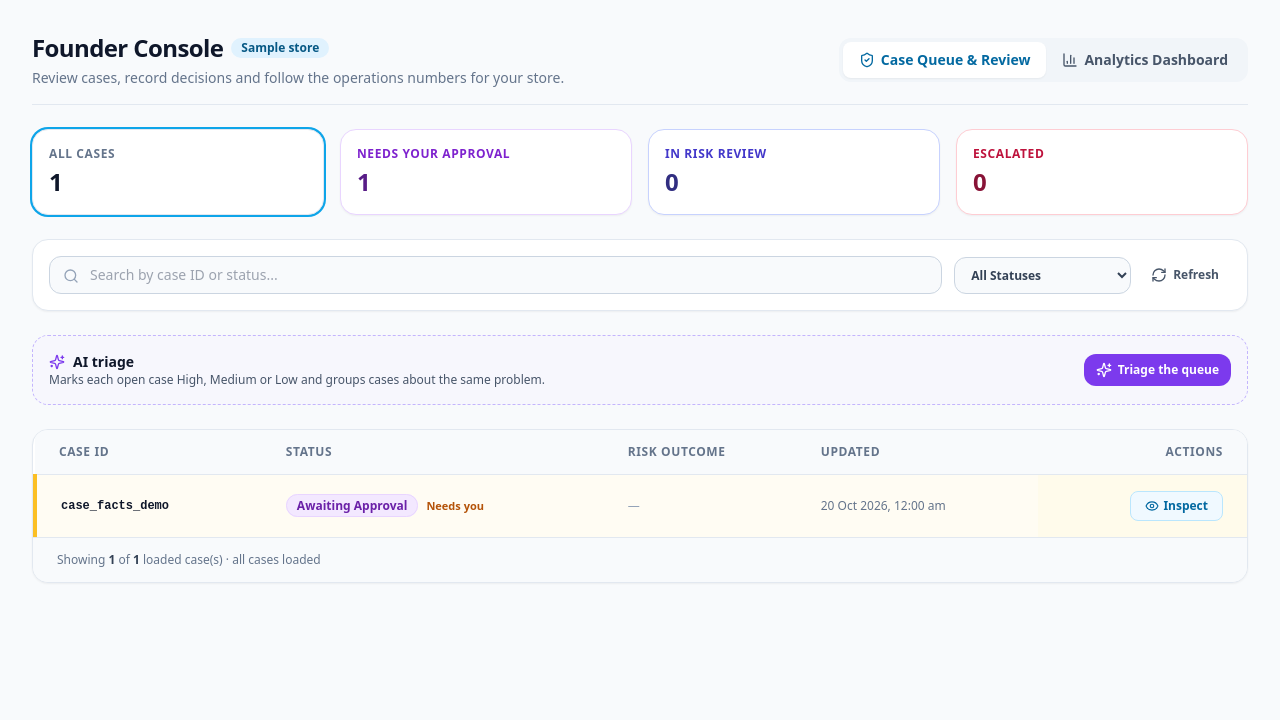
Test: FounderConsole advisory facts card (Issue #95) › marks the facts as mock data in Mock Mode
Click the button "Inspect" at coordinates (1177, 506), box [1130,491,1223,521]
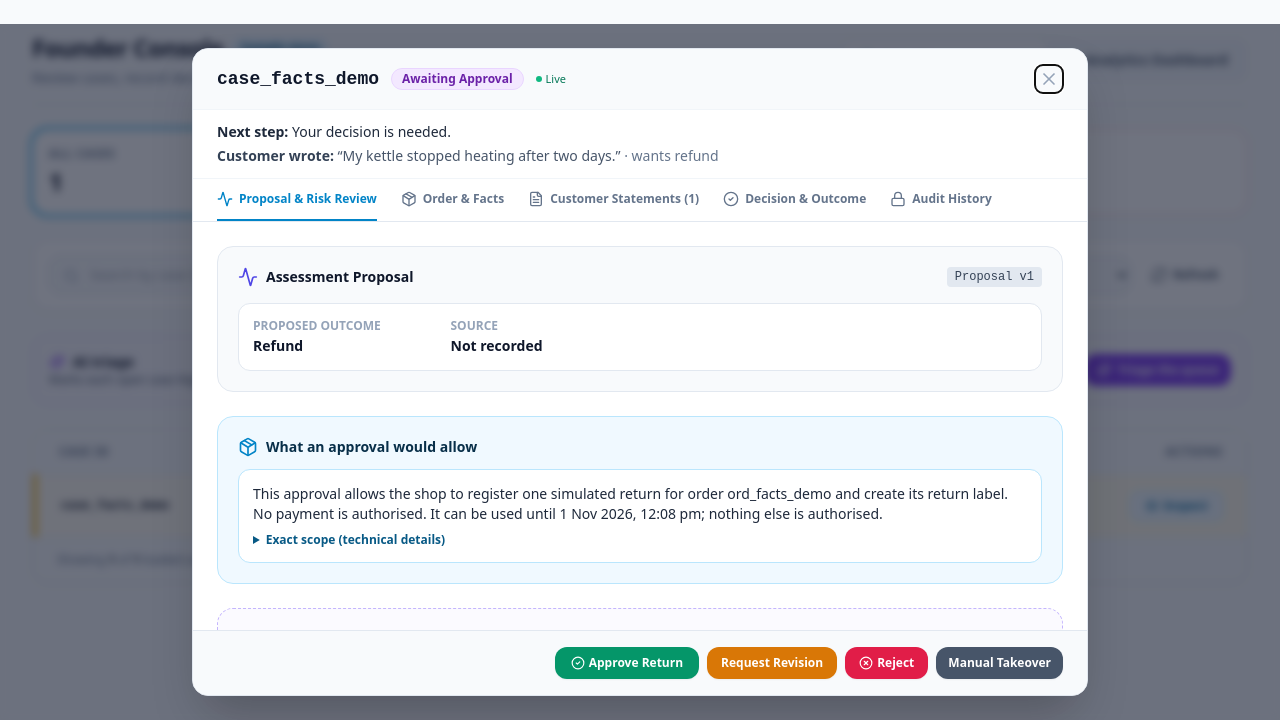
Click the tab "Order & Facts" at coordinates (452, 200), box [401,179,504,221]
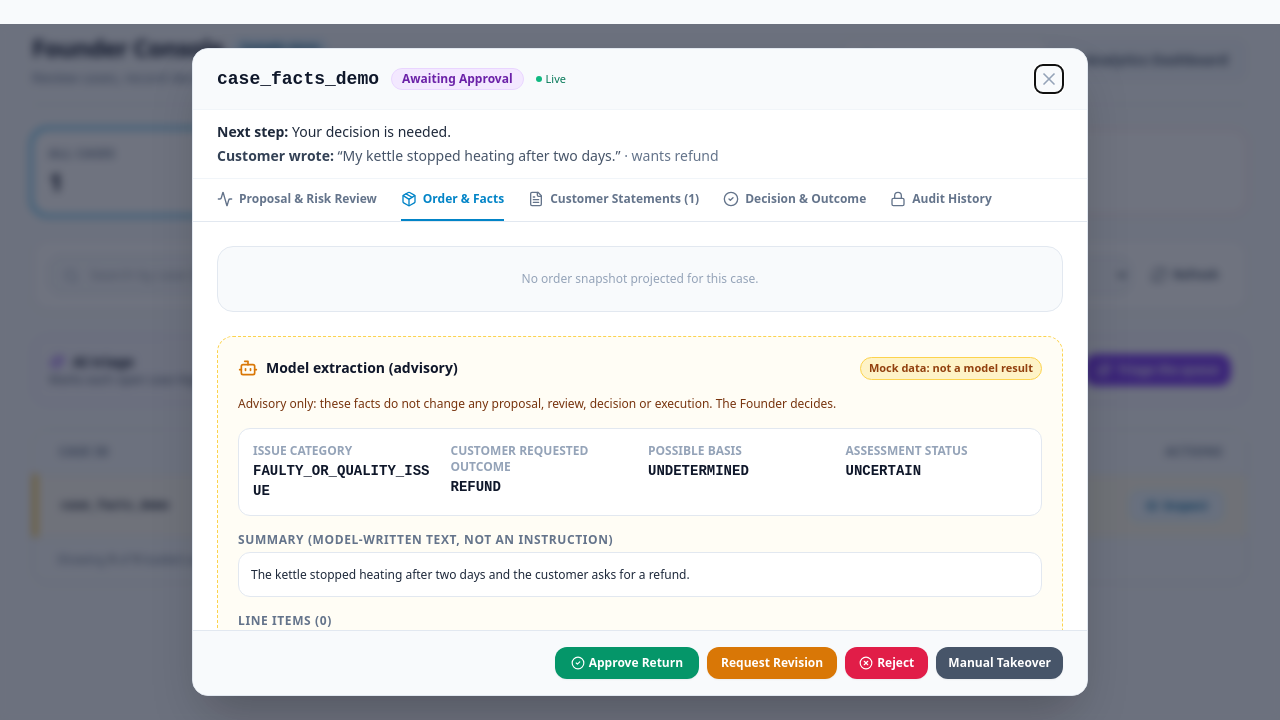
Check: the text "No order snapshot projected for this case." is shown, box [217,246,1063,312]
Check: the text "Mock data: not a model result" is shown, box [860,357,1042,380]
